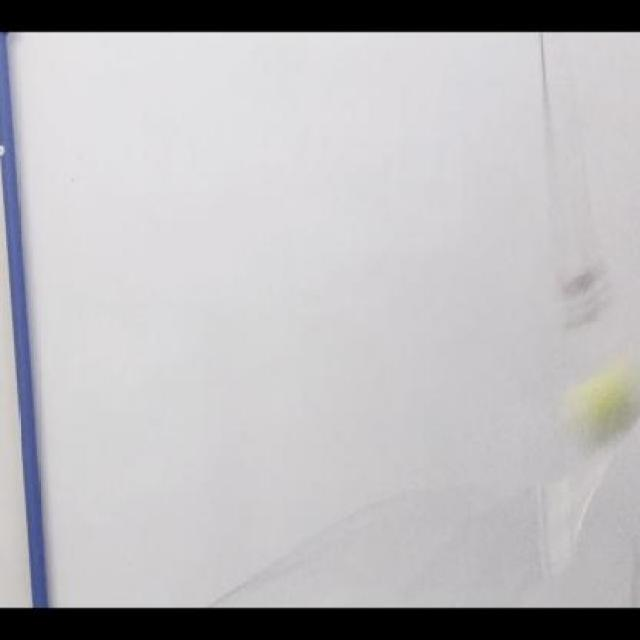baseball: (560, 383, 638, 434)
